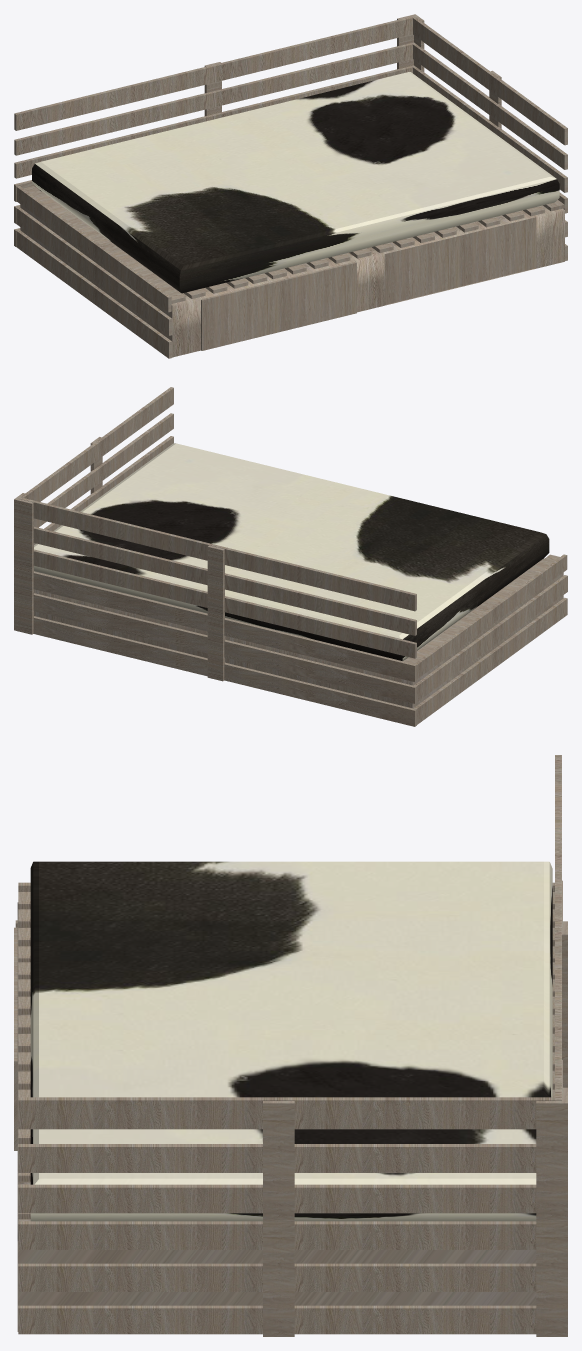
The model's file is bed1.fbx.
3 views of the same model, one above another, from view 1: azimuth 30°, elevation 25°; view 2: azimuth 150°, elevation 25°; view 3: azimuth 270°, elevation 25° (orthographic). The views are drawn at different scales.
Parts seen in each view (by area): view 1: pCube4, pasted__pasted__pasted__pasted__pasted__pasted__pasted__past (×6), pCube2, pCube1, pasted__pCube2, pasted__pCube6, pasted__pCube5, pasted__pCube4, pasted__pCube3; view 2: pasted__pasted__pasted__pasted__pasted__pasted__pasted__past (×11), pCube4, pCube1, pasted__pCube6, pasted__pCube5, pasted__pCube4, pasted__pCube3; view 3: pCube4, pasted__pasted__pasted__pasted__pasted__pasted__pasted__past (×10), pCube1, pCube2.
Part boxes in pixels (x1,y1,x2,y2): pCube4: (32, 72, 559, 293); pasted__pasted__pasted__pasted__pasted__pasted__pasted__past (×6): (14, 16, 567, 192); pCube2: (201, 261, 356, 350); pCube1: (20, 190, 564, 357); pasted__pCube2: (384, 217, 536, 304); pasted__pCube6: (16, 229, 172, 358); pasted__pCube5: (16, 207, 172, 335); pasted__pCube4: (16, 186, 171, 312); pasted__pCube3: (24, 186, 185, 303); pasted__pasted__pasted__pasted__pasted__pasted__pasted__past (×11): (16, 387, 416, 726); pCube4: (34, 443, 549, 660); pCube1: (34, 558, 563, 708); pasted__pCube6: (413, 597, 567, 724); pasted__pCube5: (414, 575, 567, 701); pasted__pCube4: (414, 554, 567, 679); pasted__pCube3: (404, 554, 559, 663); pCube4: (30, 861, 552, 1221); pasted__pasted__pasted__pasted__pasted__pasted__pasted__past (×10): (18, 755, 567, 1336); pCube1: (17, 902, 554, 1331); pCube2: (14, 927, 17, 1150).
Size of the model in its own units: 4.11 by 1.29 by 2.77.
